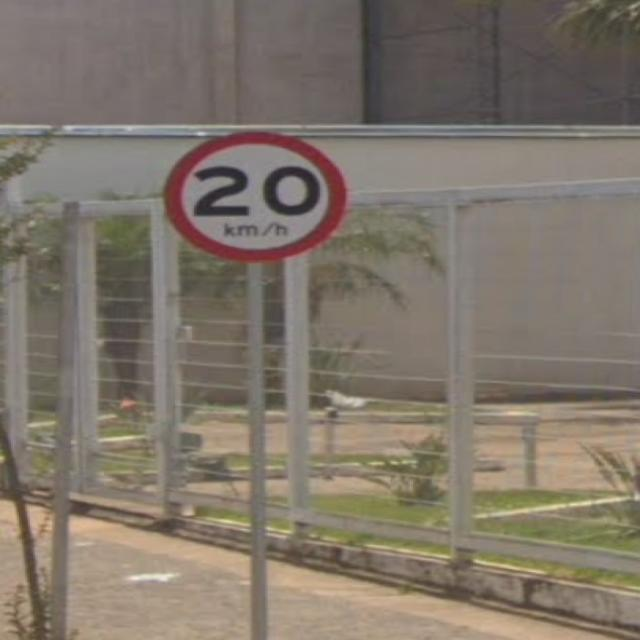speed limit: (144, 115, 362, 272)
